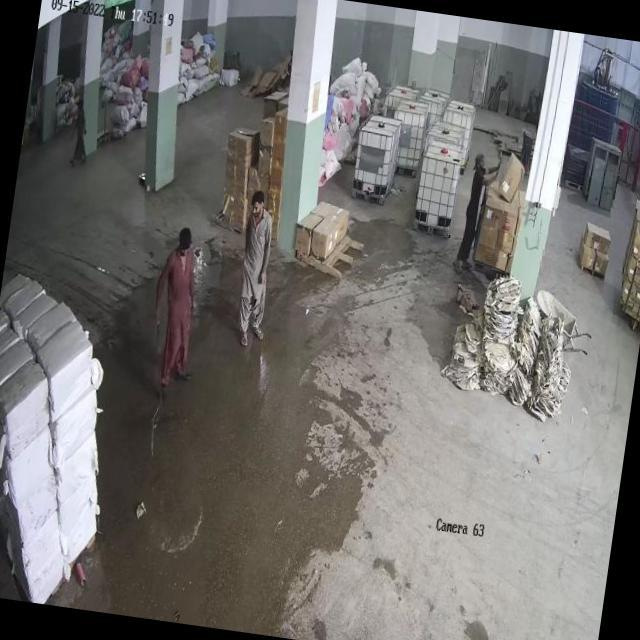person: (144, 226, 214, 396), (228, 185, 286, 348), (456, 146, 501, 276), (66, 93, 96, 169)
